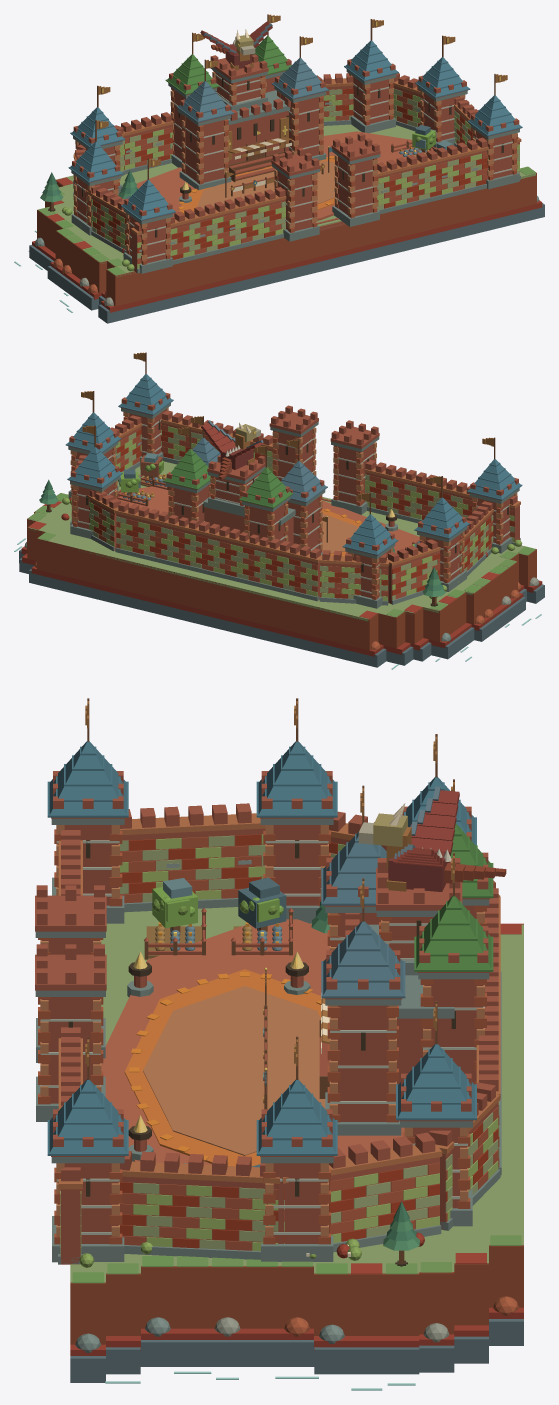
Rendered from 04_RoyalCastle.fbx.
3 renders of one model, top to bottom at view 1: azimuth 30°, elevation 25°; view 2: azimuth 150°, elevation 25°; view 3: azimuth 270°, elevation 25°, orthographic. The views are drawn at different scales.
Visible parts, largest first — view 1: GroundAndDetails_3_-6, wall_0108, wall_0110, GroundAndDetails_3_-9, GroundAndDetails_3_-7, tower_0263, GroundAndDetails_3_-8, tower_0111, tower_0260, tower_0277, tower_0109, tower_0245 (+17 smaller); view 2: GroundAndDetails_3_-10, wall_0241, GroundAndDetails_3_-9, wall_0108, GroundAndDetails_3_-8, GroundAndDetails_3_-7, tower_0109, tower_0251, tower_0266, tower_0111, tower_0263, tower_0257 (+18 smaller); view 3: GroundAndDetails_3_-7, GroundAndDetails_3_-8, GroundAndDetails_3_-10, GroundAndDetails_3_-9, tower_0277, wall_0244, GroundAndDetails_3_-6, wall_0238, tower_0254, wall_0243, tower_0251, tower_0248 (+20 smaller).
Boxes of the visible parts, left/top/right/bottom form: GroundAndDetails_3_-6: left=98, top=166, right=544, bottom=323; wall_0108: left=131, top=187, right=286, bottom=273; wall_0110: left=376, top=134, right=521, bottom=214; GroundAndDetails_3_-9: left=14, top=90, right=414, bottom=269; GroundAndDetails_3_-7: left=59, top=156, right=386, bottom=312; tower_0263: left=176, top=81, right=234, bottom=190; GroundAndDetails_3_-8: left=46, top=126, right=455, bottom=290; tower_0111: left=331, top=133, right=380, bottom=226; tower_0260: left=344, top=40, right=398, bottom=133; tower_0277: left=271, top=58, right=329, bottom=160; tower_0109: left=271, top=147, right=320, bottom=241; tower_0245: left=121, top=180, right=175, bottom=273; GroundAndDetails_3_-10: left=19, top=521, right=413, bottom=669; wall_0241: left=115, top=501, right=322, bottom=601; GroundAndDetails_3_-9: left=14, top=497, right=471, bottom=661; wall_0108: left=364, top=460, right=520, bottom=545; GroundAndDetails_3_-8: left=56, top=485, right=499, bottom=645; GroundAndDetails_3_-7: left=117, top=468, right=541, bottom=628; tower_0109: left=330, top=420, right=379, bottom=514; tower_0251: left=414, top=497, right=469, bottom=591; tower_0266: left=239, top=467, right=293, bottom=544; tower_0111: left=269, top=405, right=318, bottom=481; tower_0263: left=281, top=461, right=327, bottom=554; tower_0257: left=342, top=514, right=398, bottom=608; GroundAndDetails_3_-7: left=124, top=907, right=325, bottom=1379; GroundAndDetails_3_-8: left=101, top=919, right=404, bottom=1378; GroundAndDetails_3_-10: left=453, top=923, right=523, bottom=1363; GroundAndDetails_3_-9: left=345, top=913, right=454, bottom=1390; tower_0277: left=321, top=921, right=405, bottom=1135; wall_0244: left=120, top=1151, right=279, bottom=1259; GroundAndDetails_3_-6: left=70, top=911, right=153, bottom=1383; wall_0238: left=120, top=803, right=265, bottom=912; tower_0254: left=256, top=1079, right=337, bottom=1261; wall_0243: left=282, top=1132, right=442, bottom=1252; tower_0251: left=256, top=741, right=337, bottom=923; tower_0248: left=47, top=1079, right=128, bottom=1262.
Bounding box in the file's own units: 61.42 × 22.91 × 28.08.
1 material, 1 textured.
